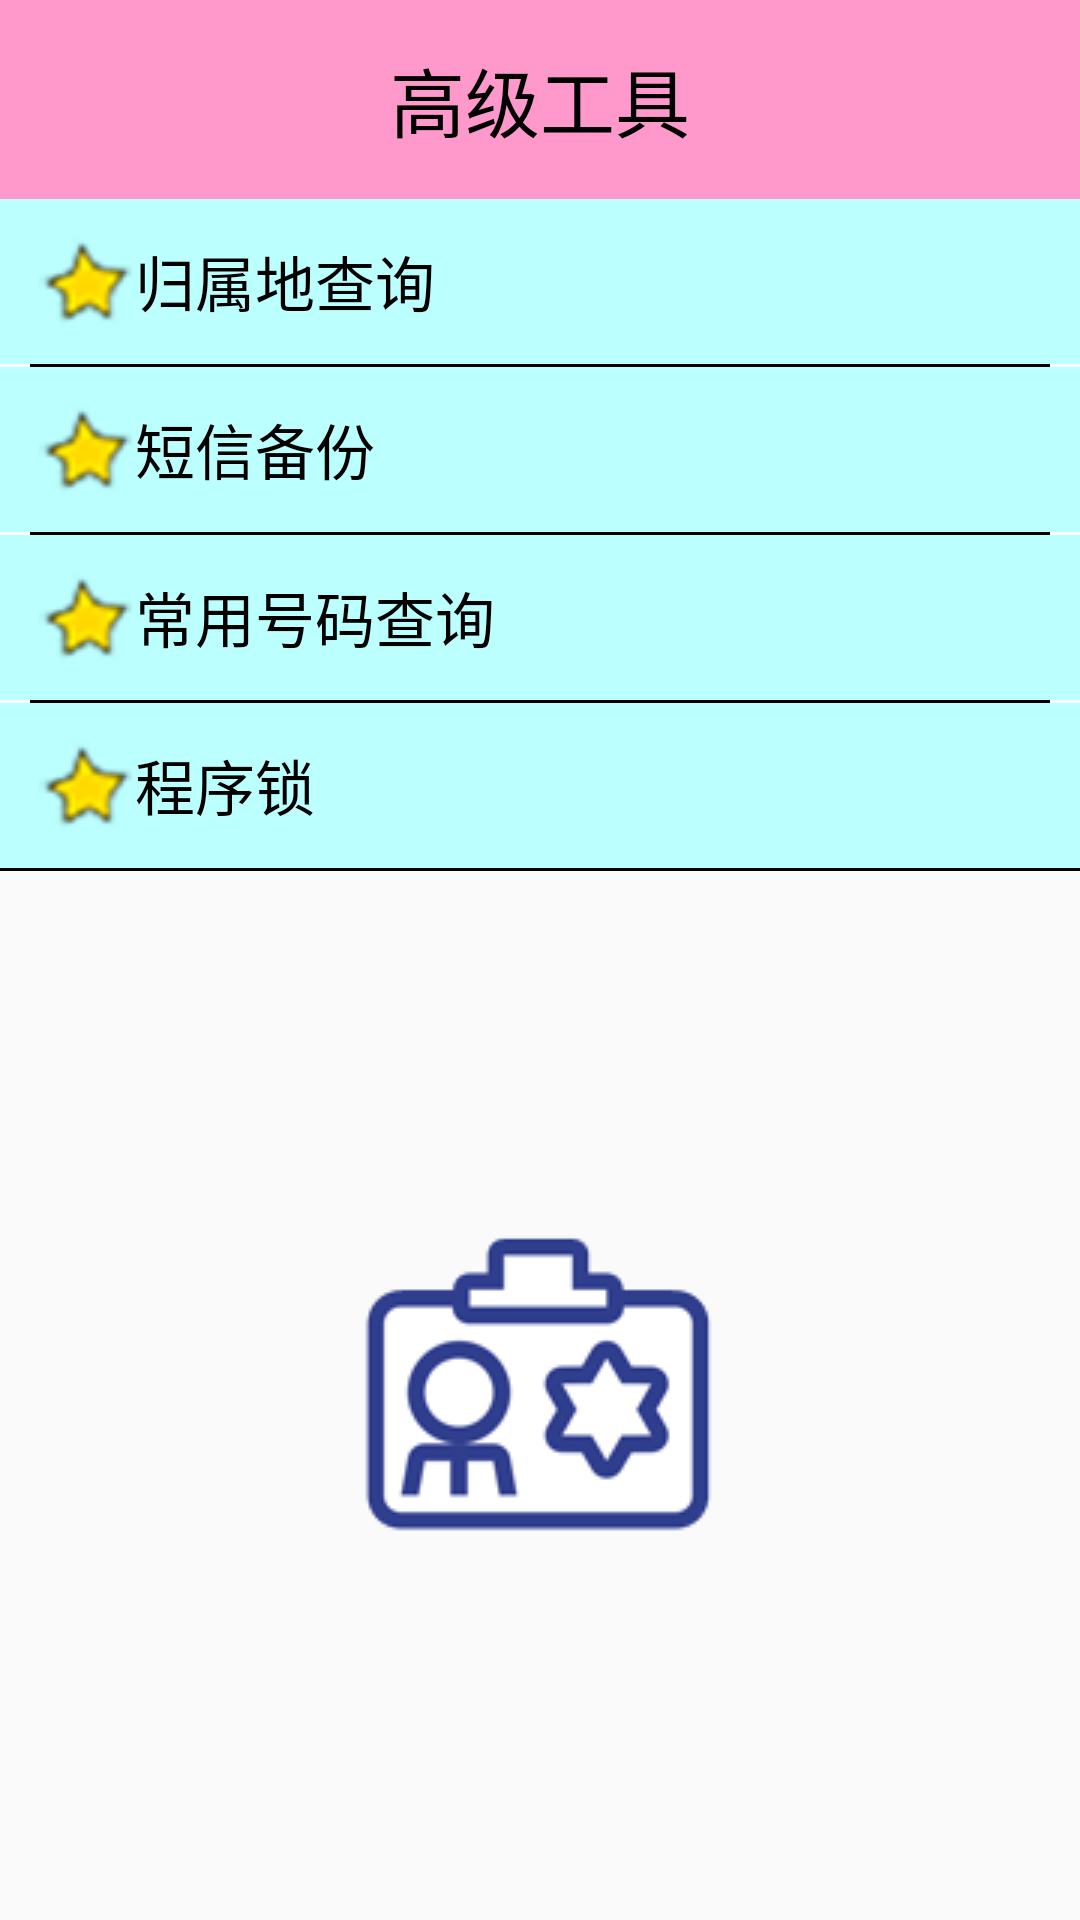

Where icons sit on this 1080px×1920px app screen, as (x1, y1, x2, y2):
home gaoji: (365, 1238, 711, 1531)
